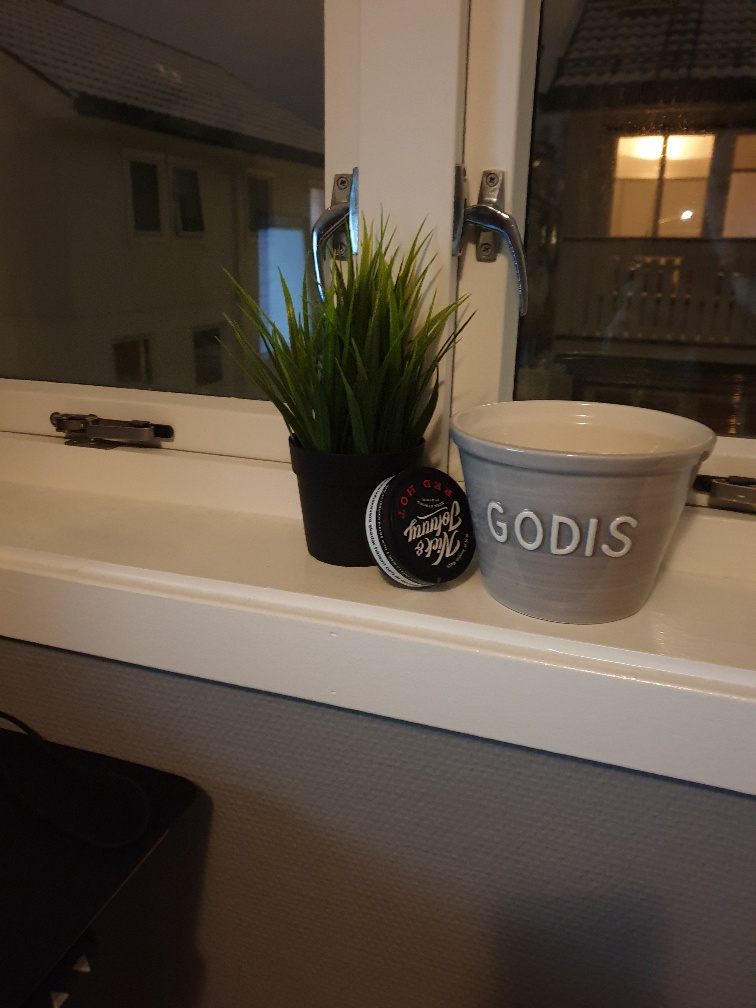snus: (354, 472, 483, 593)
